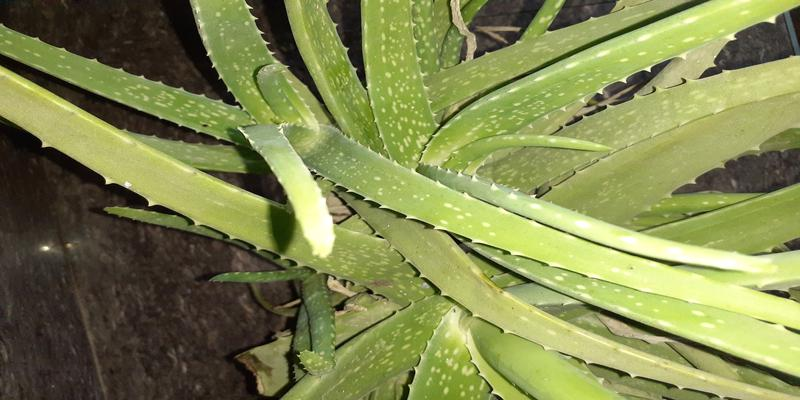Aloevera: (95, 44, 782, 349)
